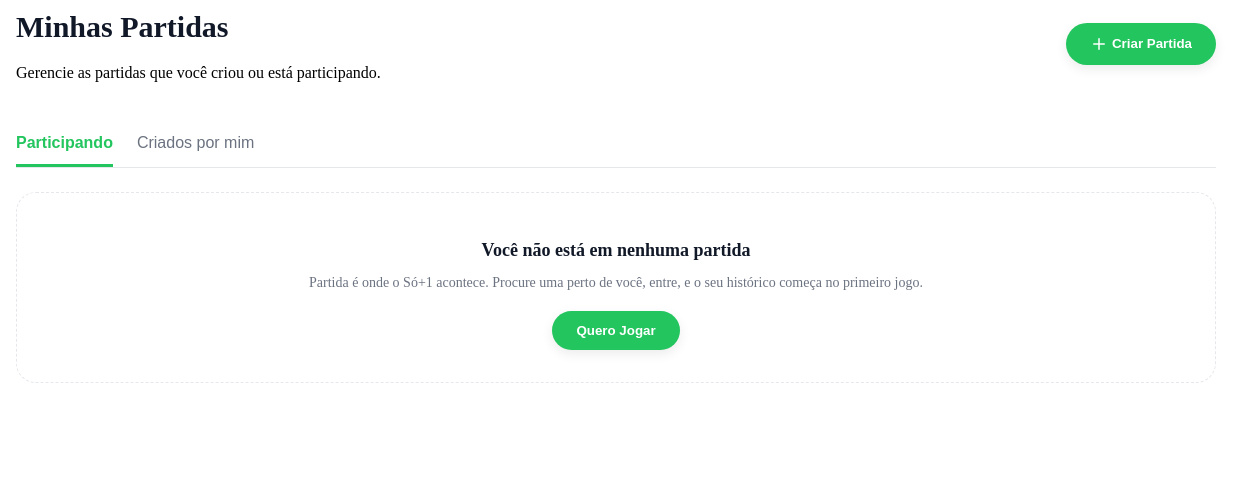
Test: MinhasPartidas — ações de organizador › esconde as ações em partida cancelada
The width and height of the screenshot is (1233, 498).
What coordinates should you click on to do the following:
click the button "Criados por mim"
I would click on:
 (196, 145)
Its box is [137,122,254,167].
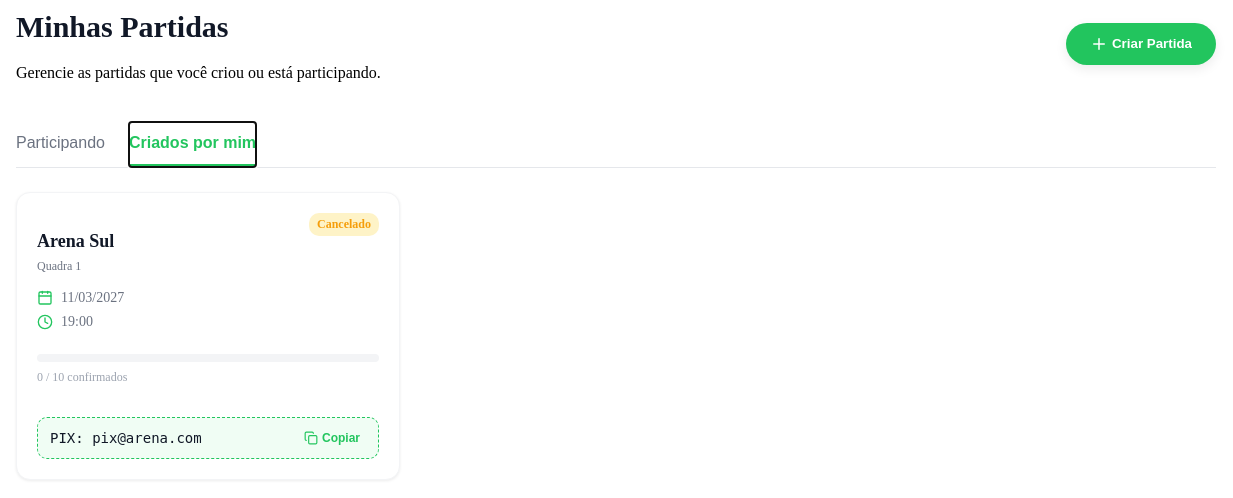
Now the heading "Arena Sul" is shown, box [37,231,114,252]
